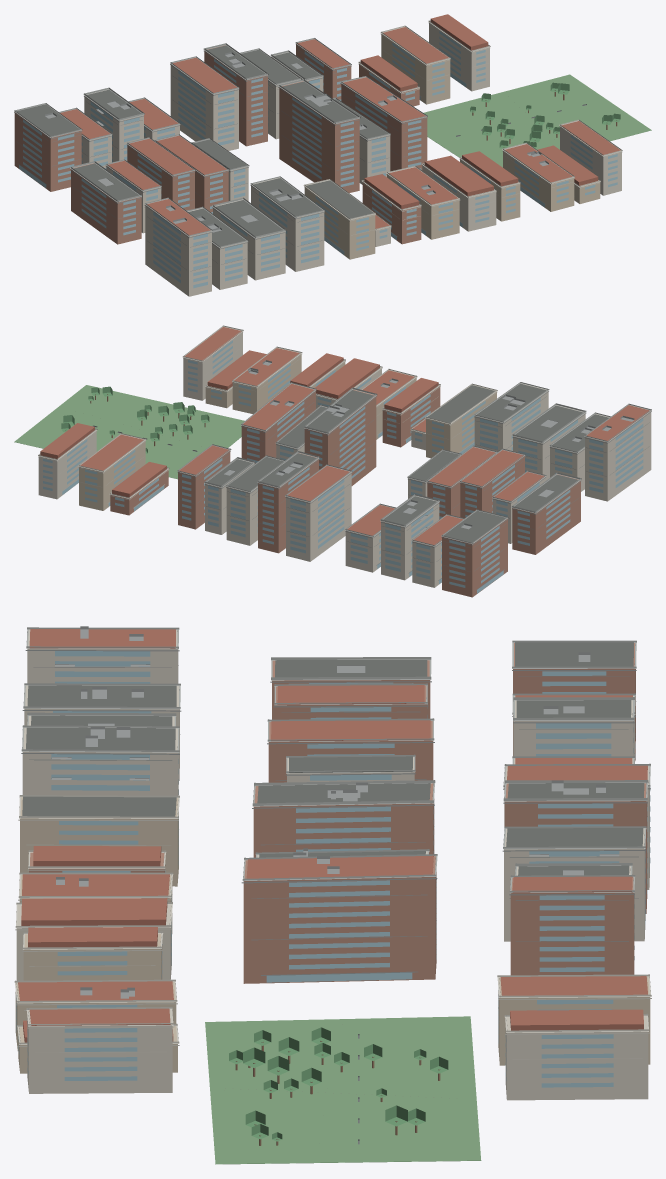
File: tile-m003-p001.glb
The picture shows the model from 3 angles, top to bottom: view 1: azimuth 30°, elevation 25°; view 2: azimuth 150°, elevation 25°; view 3: azimuth 270°, elevation 25°; orthographic projection. The views are drawn at different scales.
Parts seen in each view (by area): view 1: neighborhood-park-block-044-mesh-0, building-0135-mesh-116, building-0047-mesh-5, building-0138-mesh-135, building-0058-mesh-59, building-0052-mesh-33, building-0137-mesh-129, building-0050-mesh-26, building-0139-mesh-141, building-0207-mesh-185, building-0129-mesh-84, building-0208-mesh-190 (+71 smaller); view 2: neighborhood-park-block-044-mesh-0, building-0047-mesh-5, building-0135-mesh-116, building-0138-mesh-135, building-0058-mesh-59, building-0052-mesh-33, building-0139-mesh-141, building-0207-mesh-185, building-0060-mesh-71, building-0208-mesh-190, building-0137-mesh-129, building-0202-mesh-175 (+67 smaller); view 3: neighborhood-park-block-044-mesh-0, building-0137-mesh-129, building-0202-mesh-175, building-0142-mesh-159, building-0208-mesh-190, building-0135-mesh-116, building-0137-mesh-130, building-0050-mesh-26, neighborhood-park-block-044-mesh-3, building-0129-mesh-84, building-0133-mesh-108, building-0047-mesh-5 (+66 smaller).
Part boxes in pixels (x1,y1,x2,y2): neighborhood-park-block-044-mesh-0: (423,74,651,167); building-0135-mesh-116: (279,81,359,192); building-0047-mesh-5: (145,205,211,296); building-0138-mesh-135: (170,64,238,150); building-0058-mesh-59: (14,112,81,191); building-0052-mesh-33: (71,163,141,244); building-0137-mesh-129: (341,77,427,171); building-0050-mesh-26: (251,177,324,271); building-0139-mesh-141: (204,45,267,146); building-0207-mesh-185: (381,33,450,104); building-0129-mesh-84: (304,186,375,259); building-0208-mesh-190: (429,22,489,91); neighborhood-park-block-044-mesh-0: (14,385,244,479); building-0047-mesh-5: (585,411,651,501); building-0135-mesh-116: (304,389,376,485); building-0138-mesh-135: (286,472,351,561); building-0058-mesh-59: (442,518,507,597); building-0052-mesh-33: (512,474,580,554); building-0139-mesh-141: (258,453,318,553); building-0207-mesh-185: (79,440,145,510); building-0060-mesh-71: (381,496,439,580); building-0208-mesh-190: (38,431,96,499); building-0137-mesh-129: (241,384,315,463); building-0202-mesh-175: (183,331,242,400); neighborhood-park-block-044-mesh-0: (205,1016,481,1164); building-0137-mesh-129: (243,856,436,983); building-0202-mesh-175: (27,1009,172,1093); building-0142-mesh-159: (510,877,634,975); building-0208-mesh-190: (505,1016,648,1100); building-0135-mesh-116: (253,783,434,857); building-0137-mesh-130: (266,877,436,982); building-0050-mesh-26: (22,728,178,795); neighborhood-park-block-044-mesh-3: (229,1027,448,1141); building-0129-mesh-84: (20,797,178,886); building-0133-mesh-108: (21,898,167,925); building-0047-mesh-5: (27,629,178,683).
Bounding box in the file's own units: 302 × 41.98 × 188.
